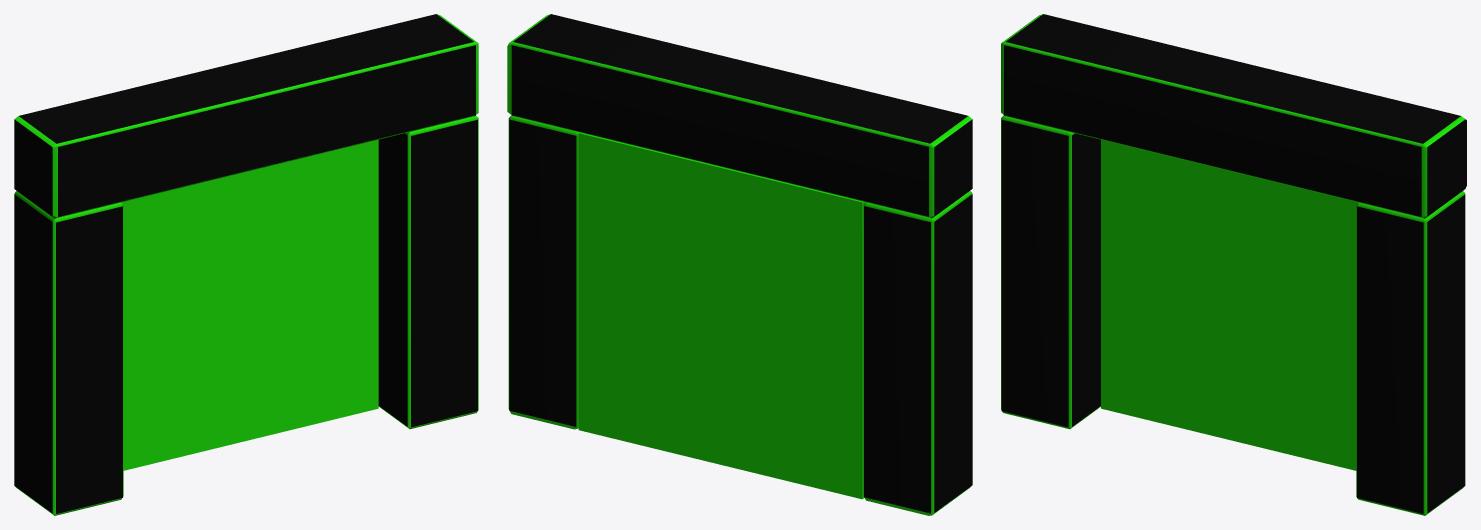
Rendered from Gate.fbx.
The picture shows the model from 3 angles, left to right: view 1: azimuth 30°, elevation 25°; view 2: azimuth 150°, elevation 25°; view 3: azimuth 330°, elevation 25°; orthographic projection.
Parts seen in each view (by area): view 1: Portal, Top, Right, Left; view 2: Portal, Top, Right, Left; view 3: Portal, Top, Left, Right.
Part boxes in pixels (left/top/right/bottom): Portal: left=121, top=139, right=378, bottom=470; Top: left=14, top=14, right=478, bottom=218; Right: left=14, top=190, right=123, bottom=515; Left: left=378, top=115, right=478, bottom=429; Portal: left=578, top=132, right=865, bottom=499; Top: left=507, top=14, right=972, bottom=217; Right: left=863, top=190, right=972, bottom=515; Left: left=508, top=115, right=579, bottom=429; Portal: left=1101, top=139, right=1357, bottom=470; Top: left=1001, top=14, right=1466, bottom=217; Left: left=1356, top=191, right=1465, bottom=515; Right: left=1001, top=115, right=1100, bottom=429.
Bounding box in the file's own units: 6 × 5 × 1.
